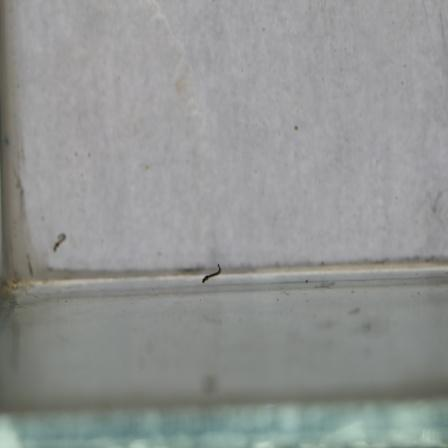Jentik-Nyamuk: (197, 261, 224, 286), (49, 230, 70, 254)
